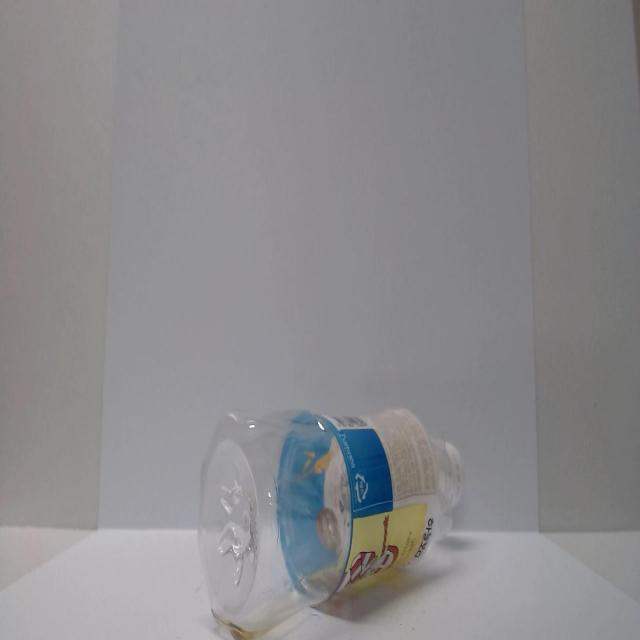bottle: (176, 377, 468, 635)
